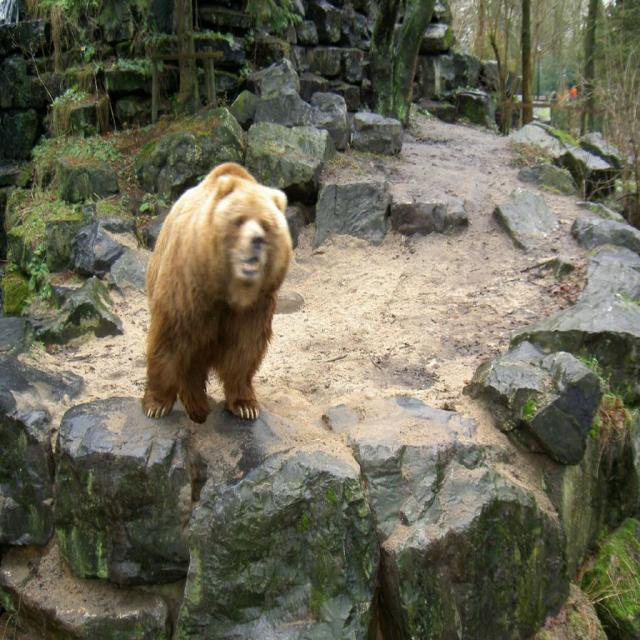Cheetahs: (140, 157, 292, 422)
